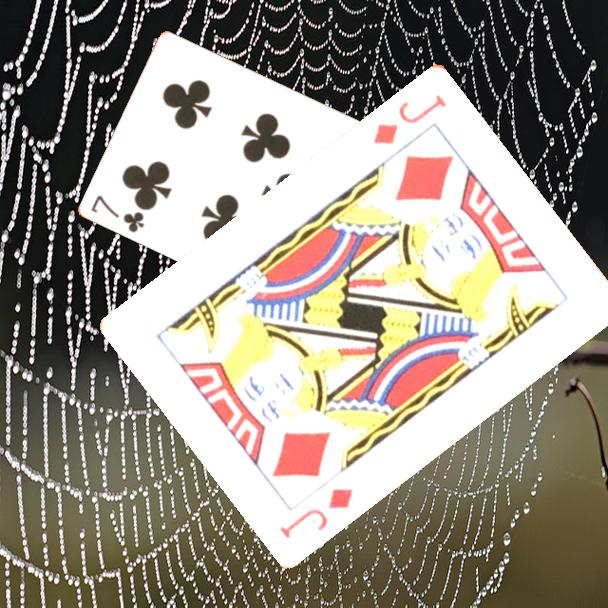c07: (88, 191, 148, 235)
d11: (276, 483, 356, 541), (369, 90, 450, 147)
